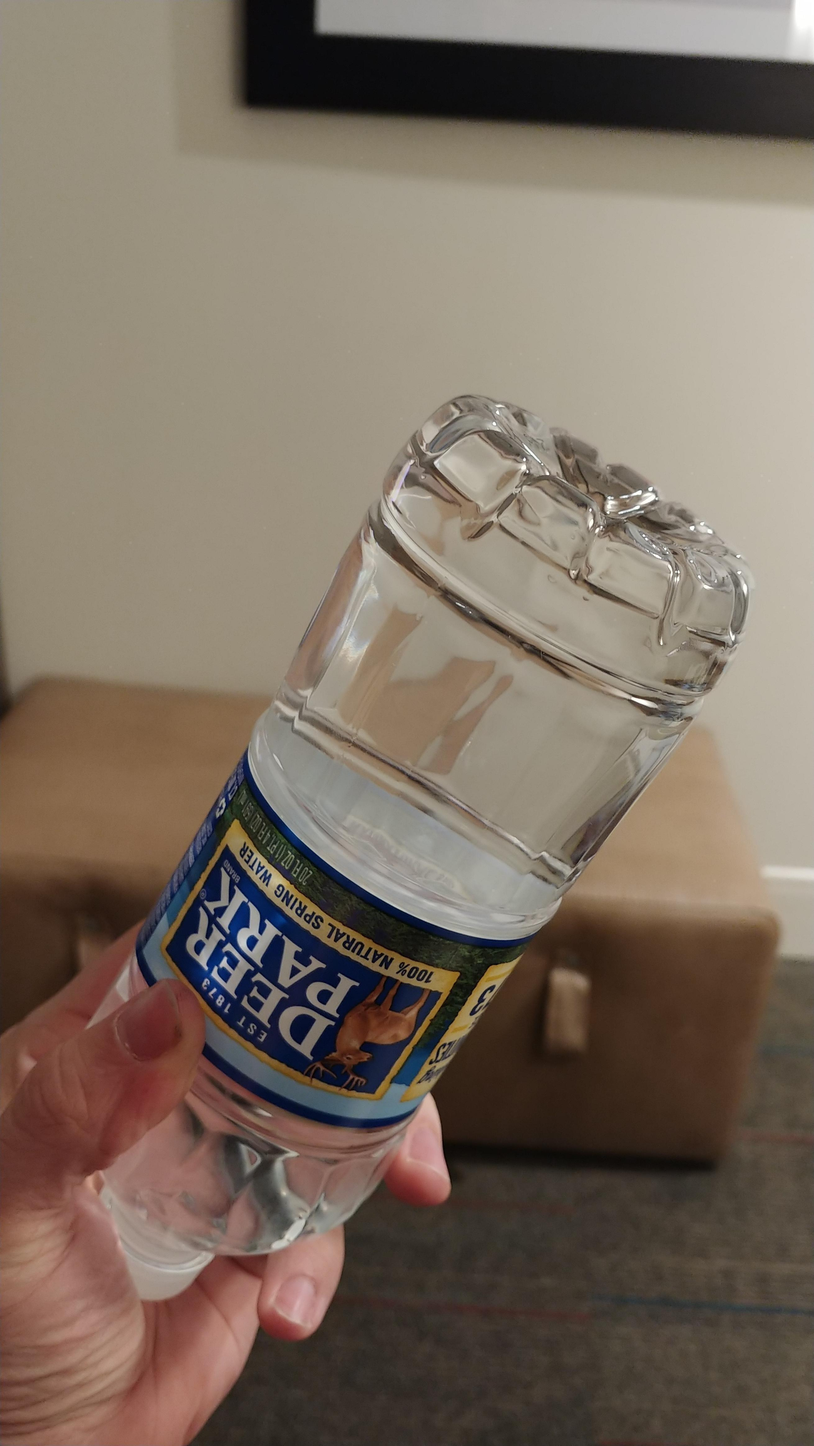bottle-plastic: (85, 390, 755, 1299)
